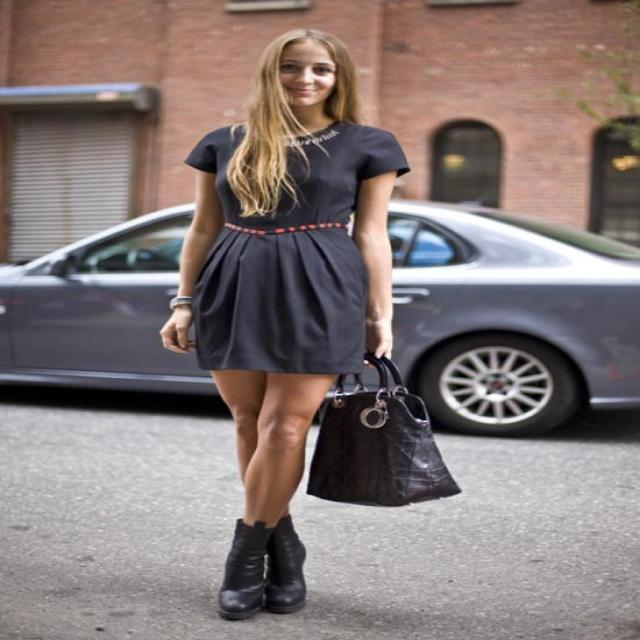dress: (184, 120, 412, 376)
